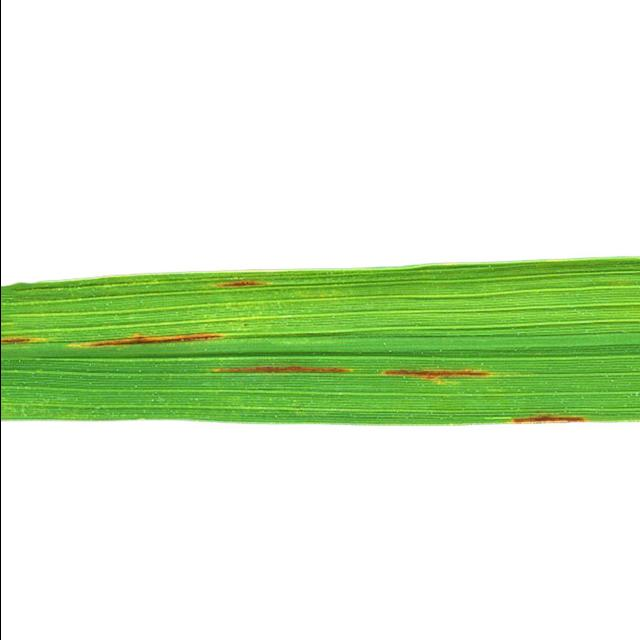Narrow brown: (0, 234, 640, 449)
